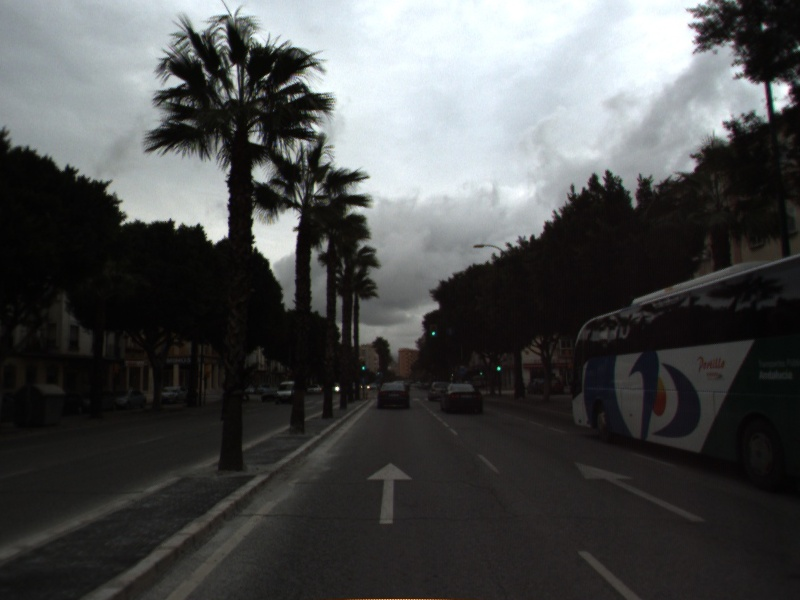STRAIGHT: (573, 461, 709, 525), (364, 460, 415, 526)
